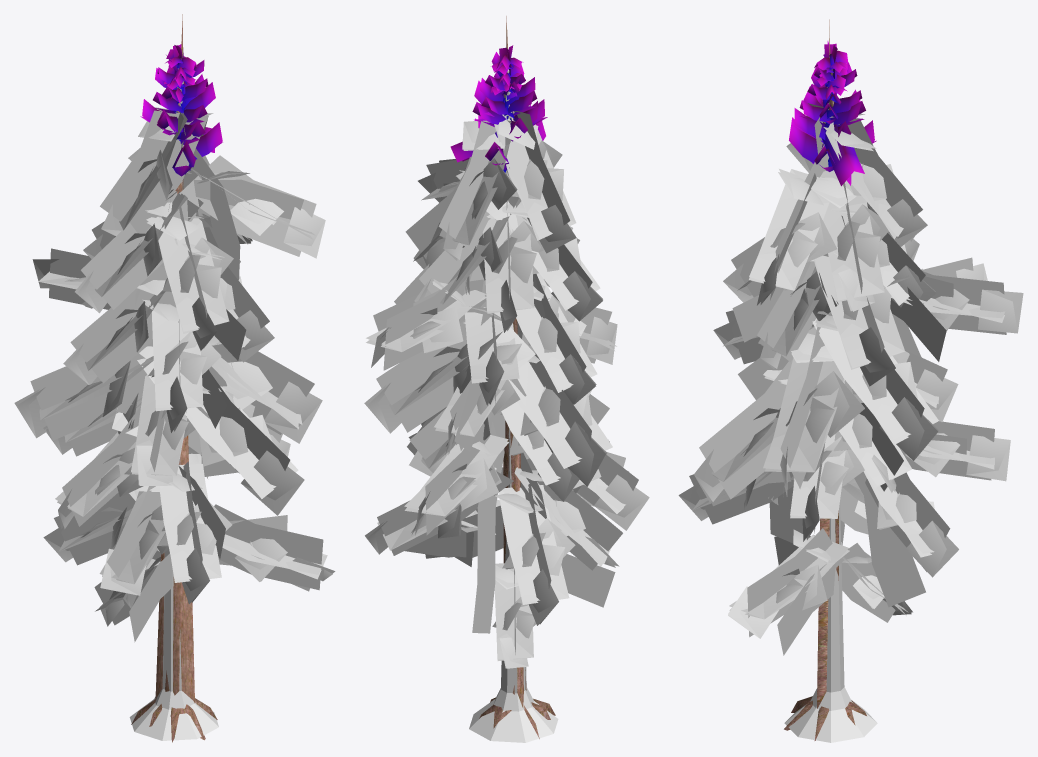
File: redwood_broad.dae
3 renders of one model, left to right at view 1: azimuth 30°, elevation 25°; view 2: azimuth 150°, elevation 25°; view 3: azimuth 270°, elevation 25°, orthographic.
Parts seen in each view (by area): view 1: redwood_broad_a350, redwood_broad_a750, Colmesh_redwood_broad-1; view 2: redwood_broad_a350, redwood_broad_a750, Colmesh_redwood_broad-1; view 3: redwood_broad_a350, redwood_broad_a750, Colmesh_redwood_broad-1.
Boxes of the visible parts, x1,y1,x2,y2 form: redwood_broad_a350: (14, 55, 335, 739); redwood_broad_a750: (17, 14, 332, 742); Colmesh_redwood_broad-1: (129, 68, 218, 740); redwood_broad_a350: (364, 106, 648, 708); redwood_broad_a750: (366, 16, 649, 738); Colmesh_redwood_broad-1: (469, 69, 558, 742); redwood_broad_a350: (678, 41, 1023, 708); redwood_broad_a750: (679, 19, 1017, 740); Colmesh_redwood_broad-1: (784, 82, 877, 742).
Size of the model in its own units: 14.32 by 16.8 by 38.5.
